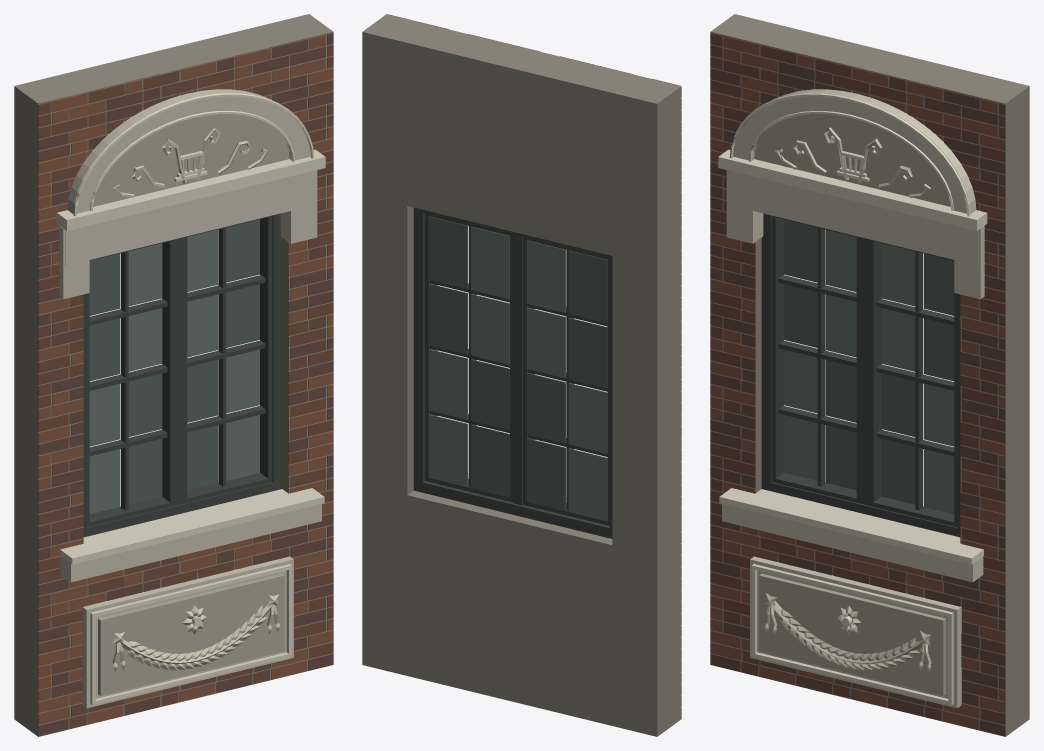
The model's file is xuhui-anting-apartments-garland-window-lod.glb.
3 renders of one model, left to right at view 1: azimuth 30°, elevation 25°; view 2: azimuth 150°, elevation 25°; view 3: azimuth 330°, elevation 25°, orthographic.
Visible parts, largest first — view 1: 金司林公寓安亭路底层南窗与垂花饰板; view 2: 金司林公寓安亭路底层南窗与垂花饰板; view 3: 金司林公寓安亭路底层南窗与垂花饰板.
Part boxes in pixels (x1,y1,x2,y2): 金司林公寓安亭路底层南窗与垂花饰板: [14, 14, 333, 736]; 金司林公寓安亭路底层南窗与垂花饰板: [362, 14, 681, 736]; 金司林公寓安亭路底层南窗与垂花饰板: [710, 14, 1029, 736].
Size of the model in its own units: 1.74 by 3.57 by 0.375.
